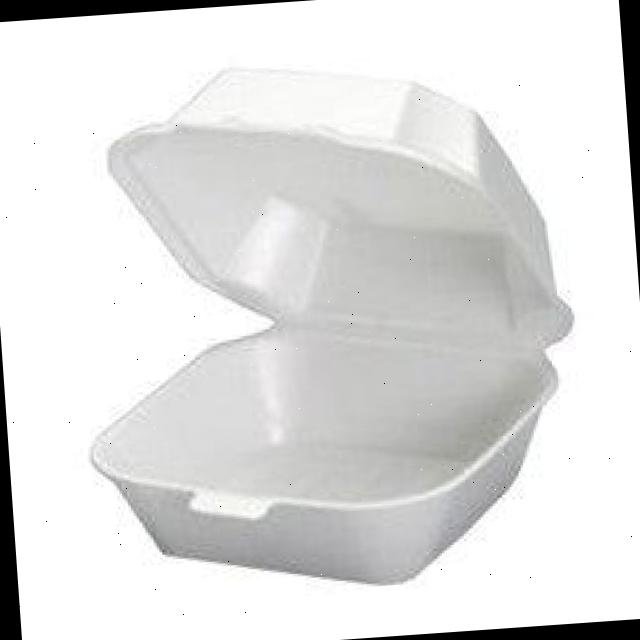styrofoam: (59, 39, 591, 605)
